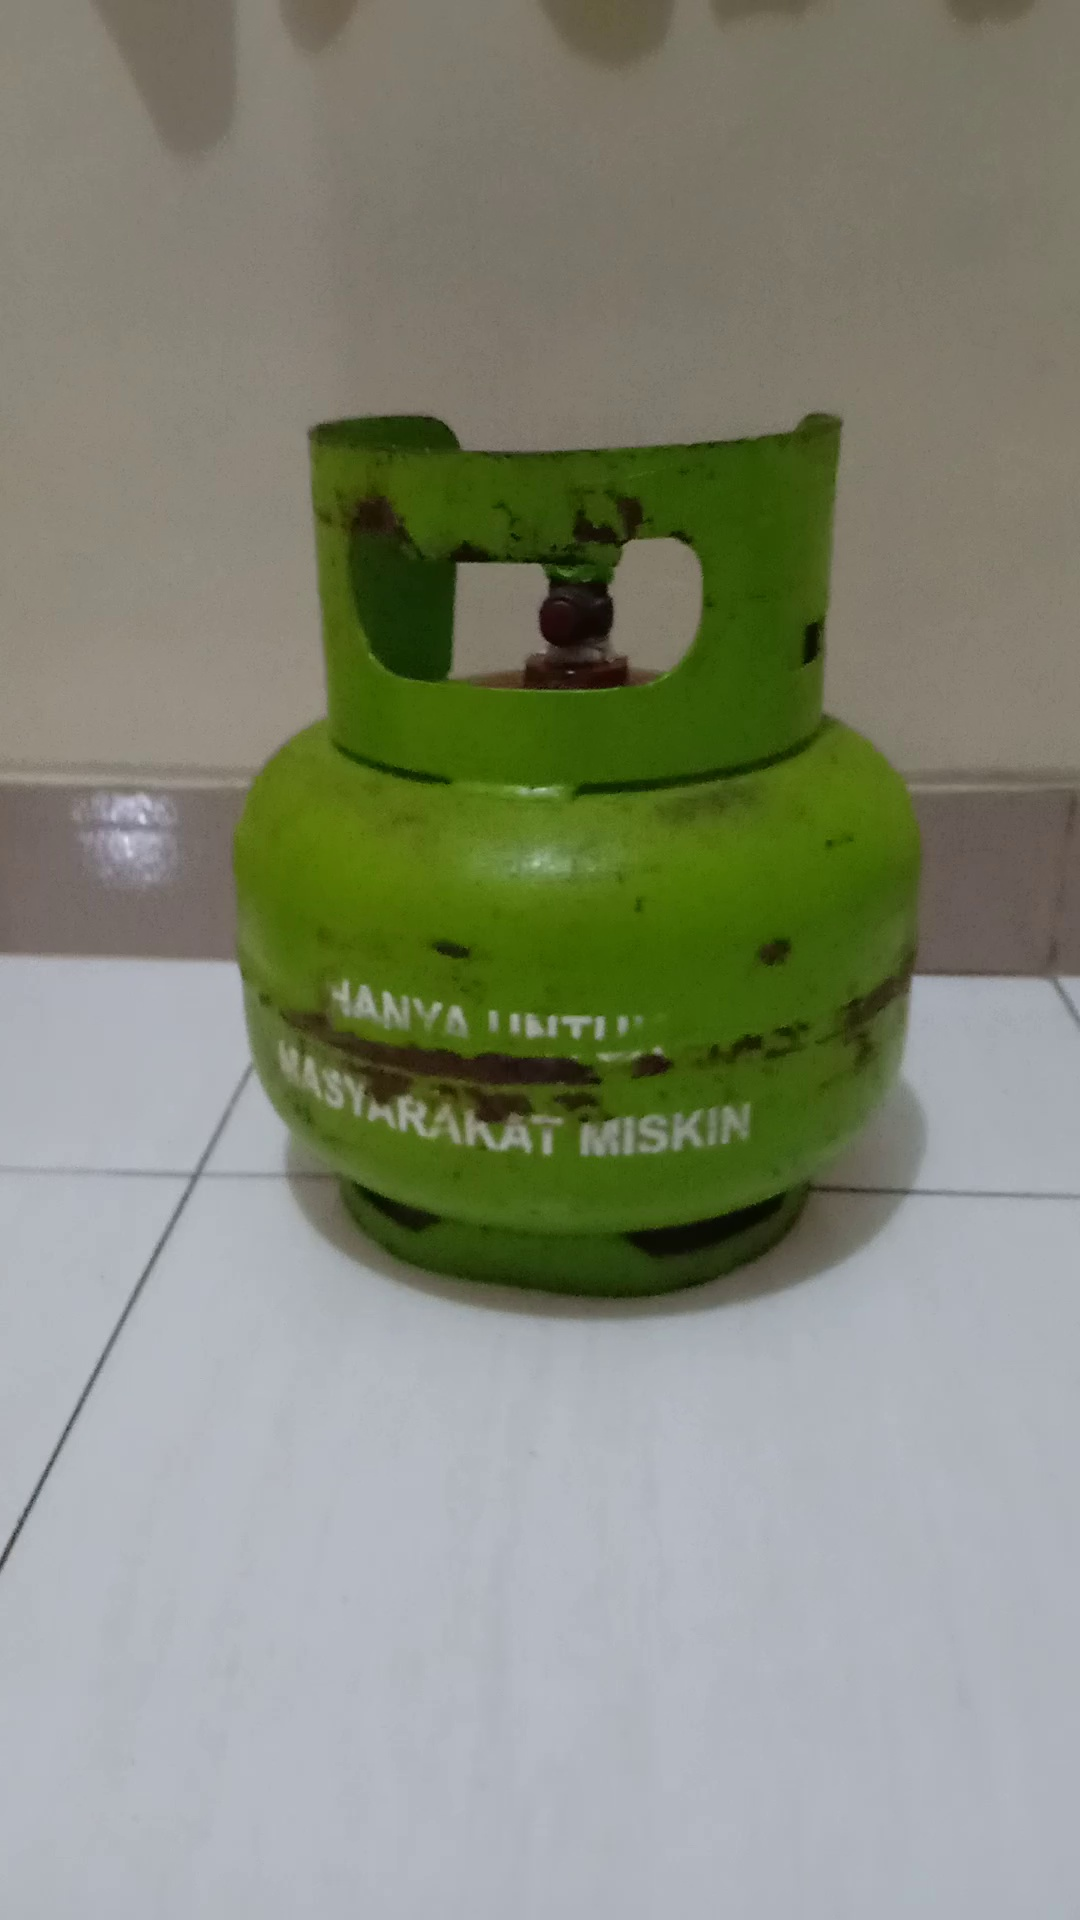gas_ijo: (233, 411, 934, 1309)
